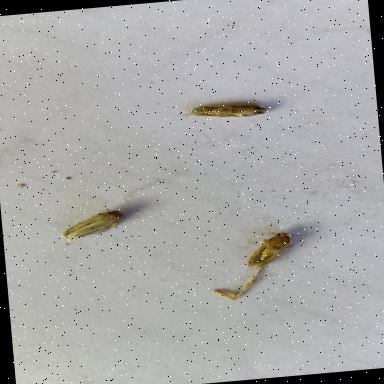pbw: (242, 225, 298, 271), (180, 98, 268, 124), (60, 208, 136, 238)
